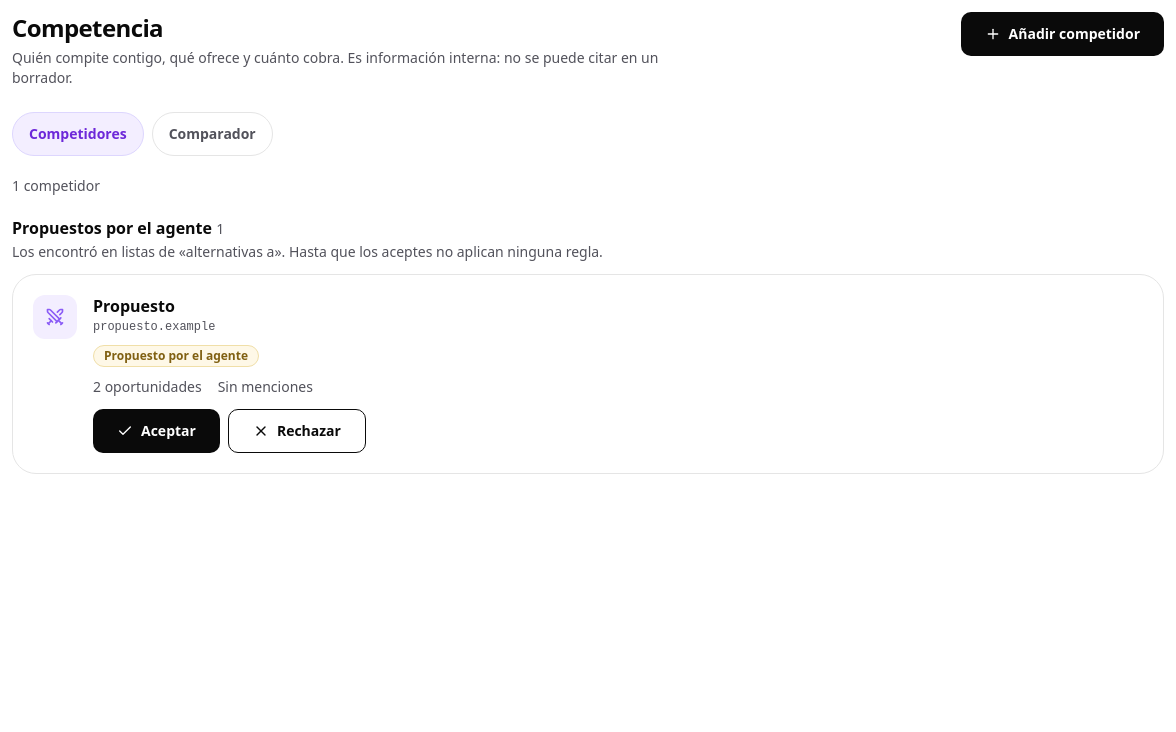
Test: Competencia · los propuestos por el agente › si aceptar falla, lo dice con qué hacer y la tarjeta se queda donde estaba
Click the button "Aceptar". click: (156, 431)
box: [93, 409, 220, 453]
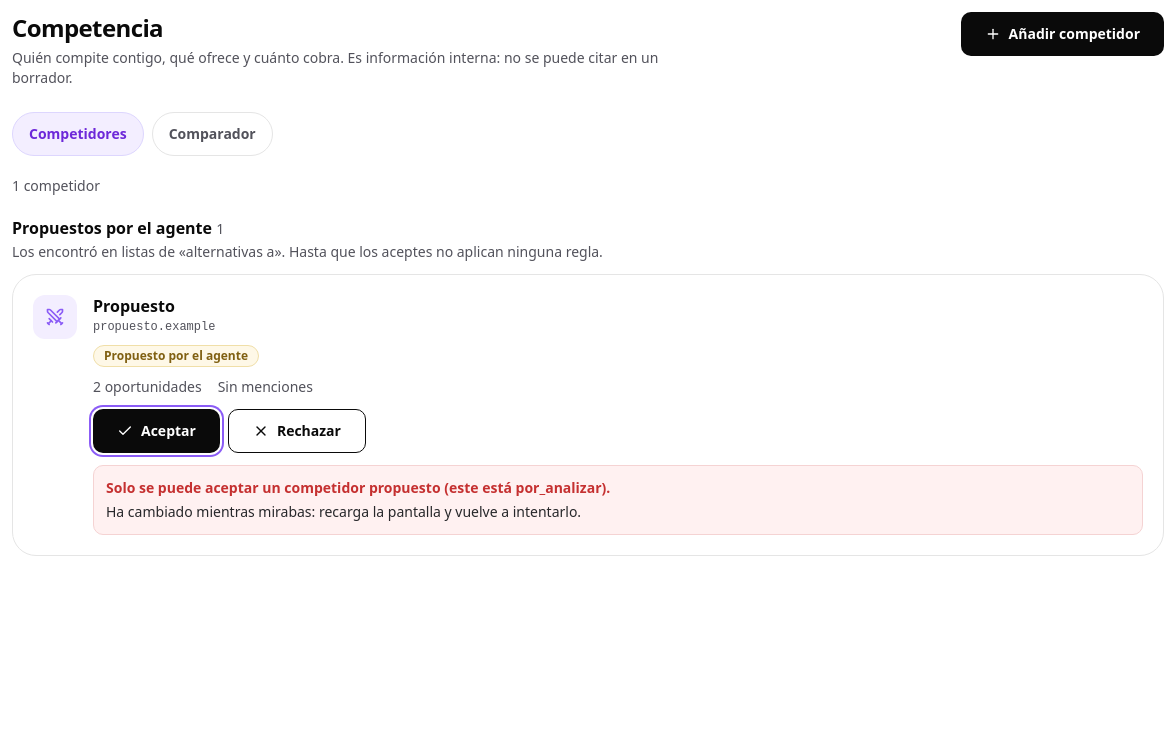
Expected: the link "Propuesto" is shown, [93, 295, 175, 317]
Result: the message shows "Solo se puede aceptar un competidor propuesto" at [106, 478, 610, 497]
Result: the message shows "recarga la pantalla" at [106, 502, 581, 521]
